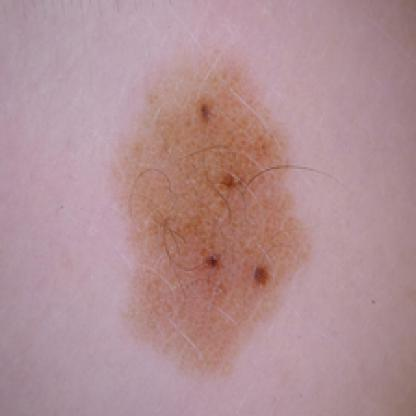benign: (124, 54, 329, 382)
